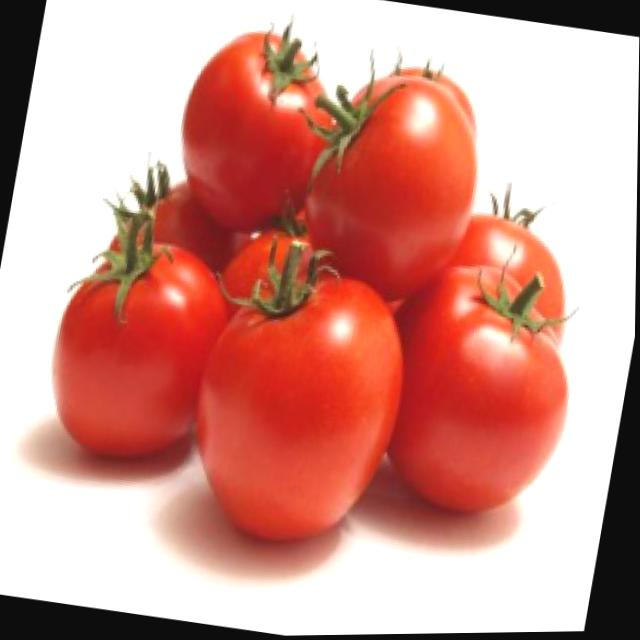tomato: (179, 260, 414, 554), (365, 257, 591, 533), (293, 64, 494, 314), (41, 232, 244, 477), (165, 18, 348, 247)
